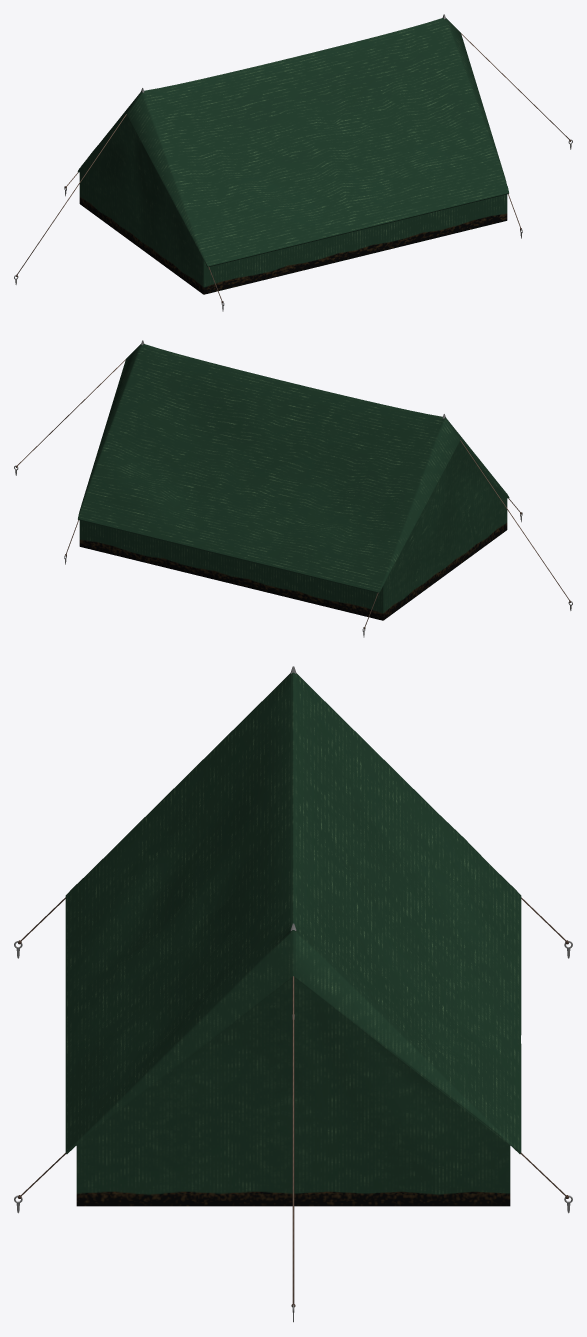
Rendered from Camping_Tent_001.fbx.
3 renders of one model, top to bottom at view 1: azimuth 30°, elevation 25°; view 2: azimuth 150°, elevation 25°; view 3: azimuth 270°, elevation 25°, orthographic. The views are drawn at different scales.
Parts seen in each view (by area): view 1: Tent_Main, Rope_Length; view 2: Tent_Main, Rope_Length; view 3: Tent_Main, Rope_Length.
Boxes of the visible parts, x1,y1,x2,y2 form: Tent_Main: [77, 14, 508, 294]; Rope_Length: [17, 33, 569, 274]; Tent_Main: [78, 340, 509, 620]; Rope_Length: [17, 359, 569, 600]; Tent_Main: [65, 666, 521, 1206]; Rope_Length: [292, 976, 294, 1303].
Bounding box in the file's own units: 187 × 378 × 107.
